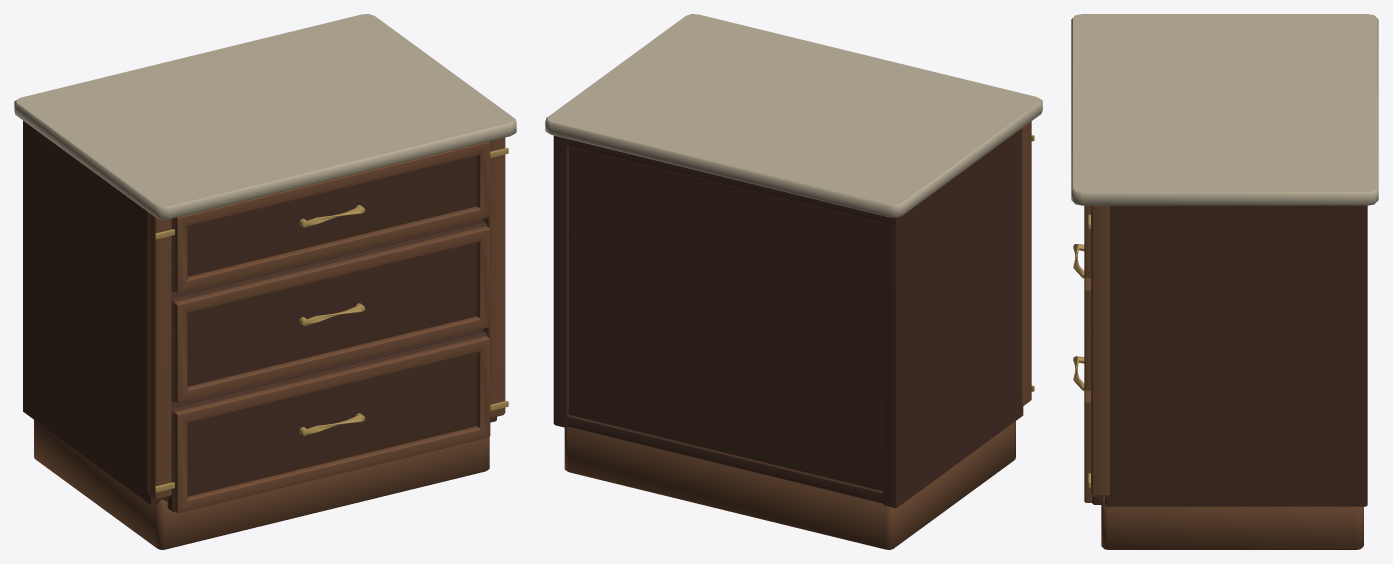
Rendered from rpg-mansion-kitchen-three-drawer-900-01.glb.
3 renders of one model, left to right at view 1: azimuth 30°, elevation 25°; view 2: azimuth 150°, elevation 25°; view 3: azimuth 270°, elevation 25°, orthographic. The views are drawn at different scales.
Visible parts, largest first — view 1: rpg-mansion-kitchen-three-drawer-900-01; view 2: rpg-mansion-kitchen-three-drawer-900-01; view 3: rpg-mansion-kitchen-three-drawer-900-01.
Part boxes in pixels (bbox=[...]): rpg-mansion-kitchen-three-drawer-900-01: bbox=[14, 14, 516, 549]; rpg-mansion-kitchen-three-drawer-900-01: bbox=[545, 14, 1042, 549]; rpg-mansion-kitchen-three-drawer-900-01: bbox=[1071, 14, 1378, 549].
Bounding box in the file's own units: 0.9 × 0.85 × 0.65.
